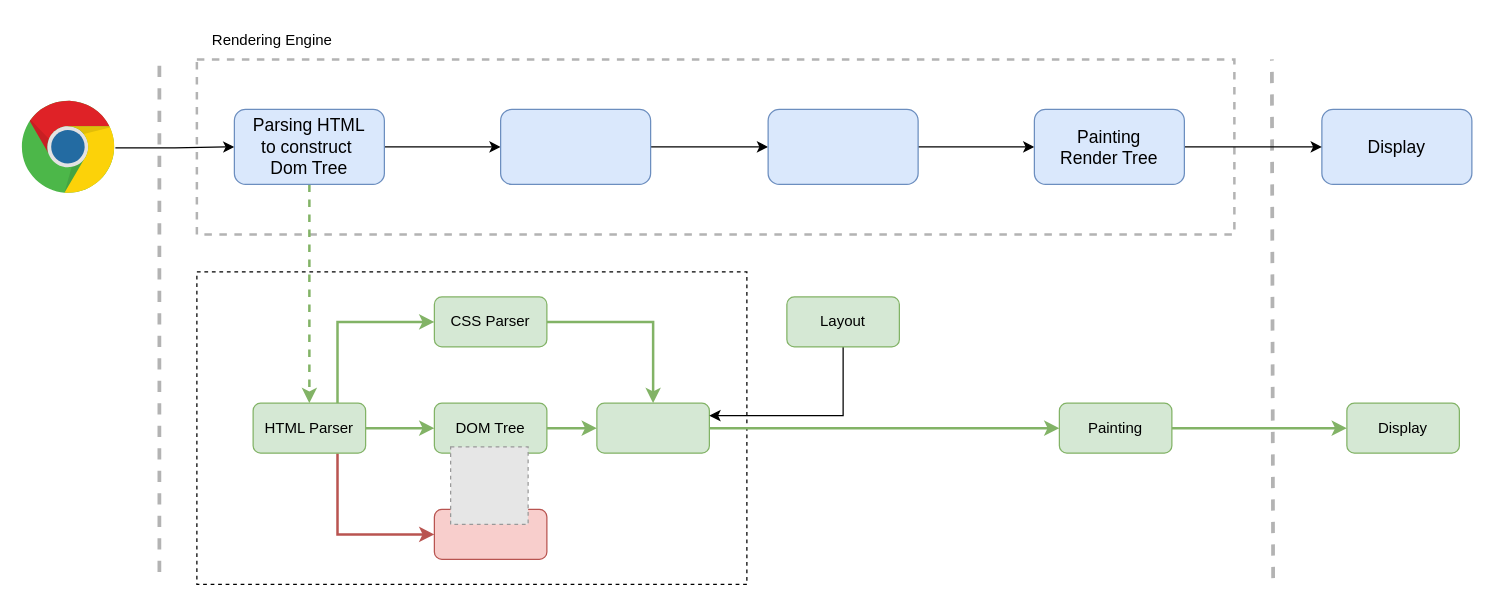
The diagram is 1494 pixels wide and 606 high, and some of its shapes have lost their labels. Grey dashed boxes stand in for pictures. Here are the shapes that lost their labels. From the top down, the centre of each, then its label:
the point at 575,146: Render Tree Construction
the point at 842,146: Layout of Render Tree
the point at 652,427: Render Tree
the point at 490,533: JavaScript Parser
